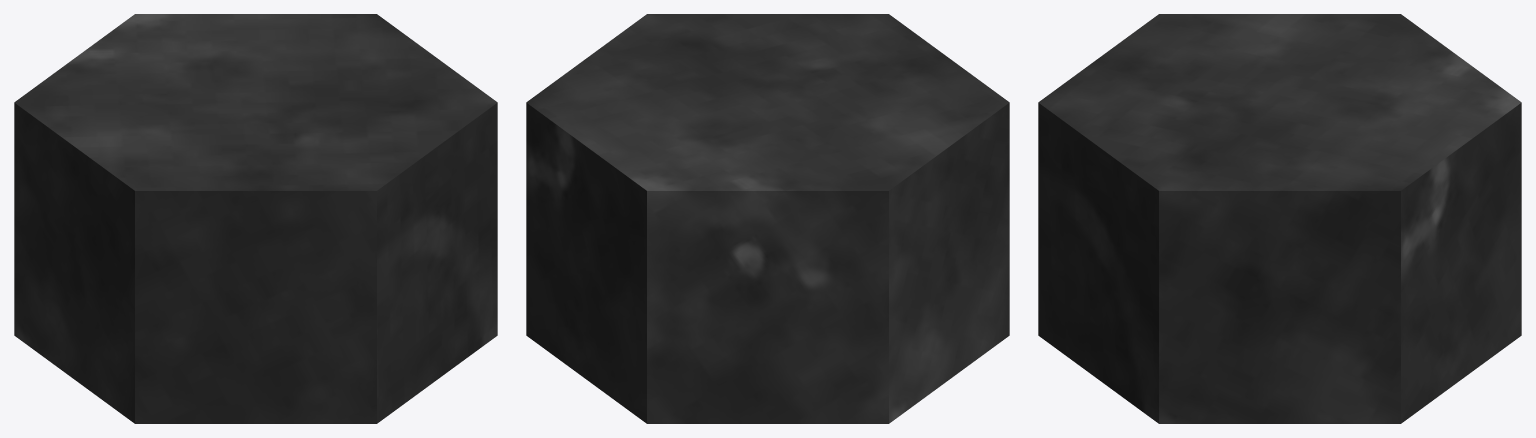
File: piece5.fbx
3 renders of one model, left to right at view 1: azimuth 30°, elevation 25°; view 2: azimuth 150°, elevation 25°; view 3: azimuth 270°, elevation 25°, orthographic.
Parts seen in each view (by area): view 1: Circle; view 2: Circle; view 3: Circle.
Part boxes in pixels (x1,y1,x2,y2): Circle: [14, 14, 497, 423]; Circle: [526, 14, 1009, 423]; Circle: [1038, 14, 1521, 423].
Bounding box in the file's own units: 1.21 × 0.7444 × 1.4.
